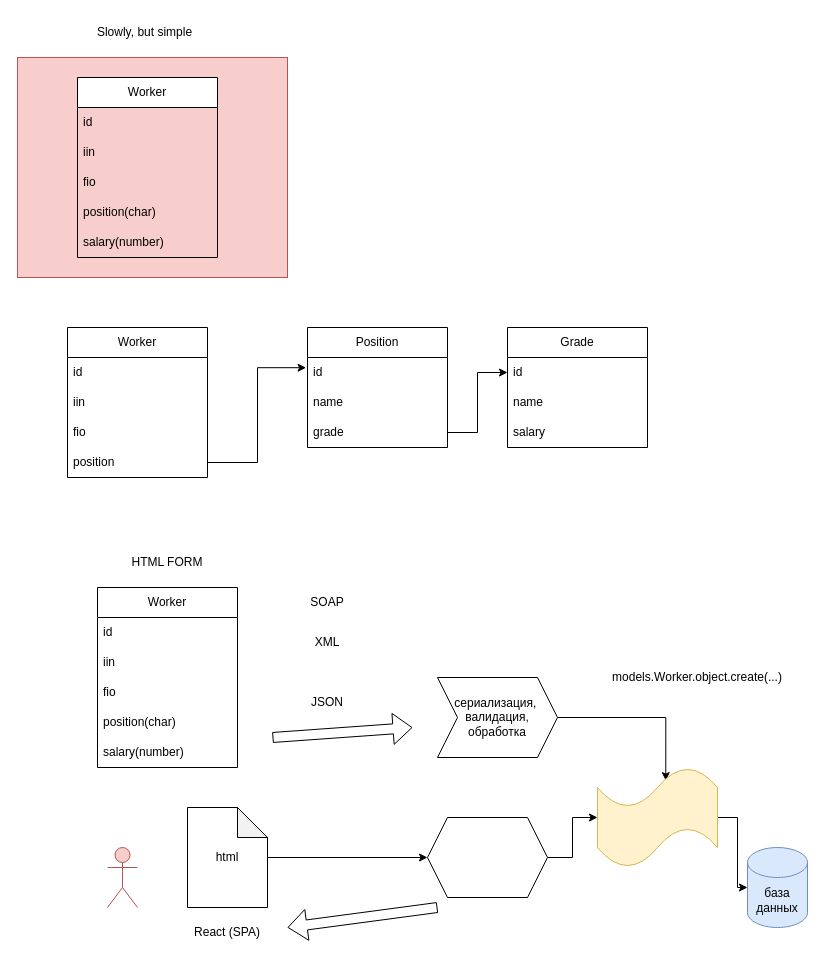
This 825x964 diagram has some shape labels left out. Each missing label, with the centre of its shape:
django: (487,857)
ORM: (657,817)
Кадровик: (122,877)
